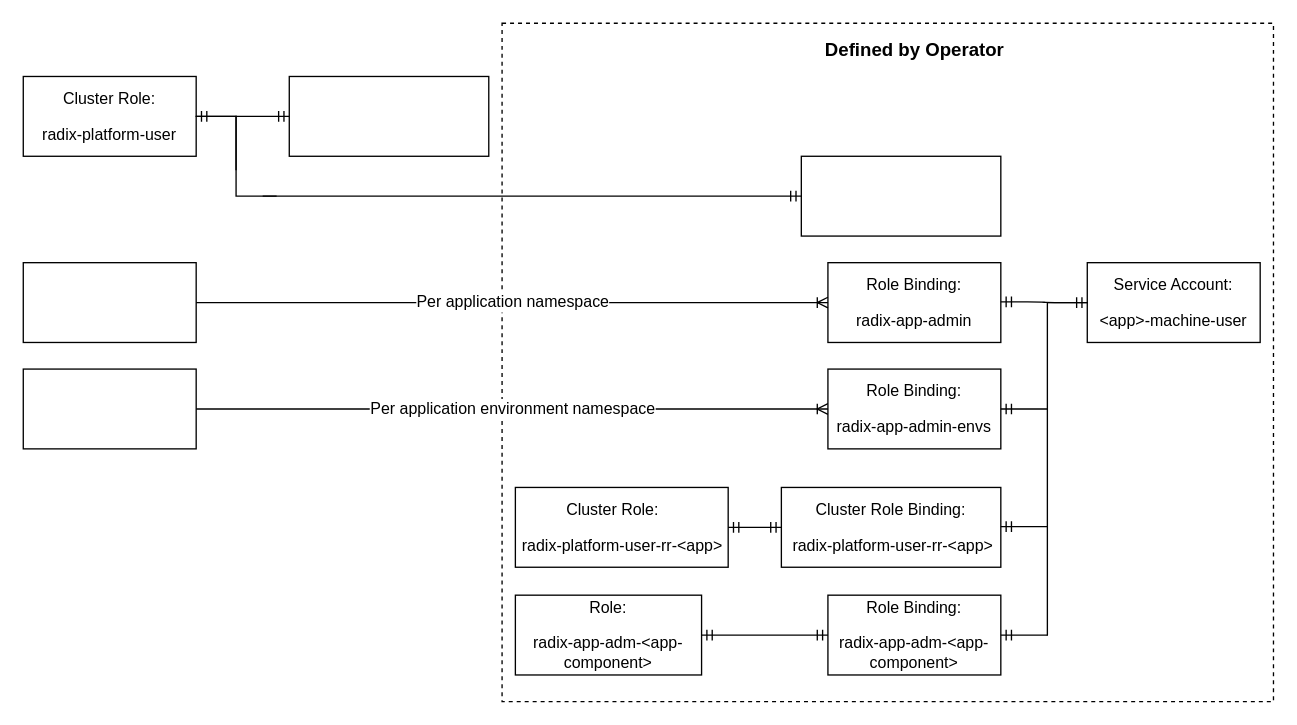
Image size: 1297x725. Some labels were removed from this diagram. Here are the shapes that lost their labels. From the top down, the centre of each, then its label:
At [388,115]: "Cluster Role Binding: radix-platform-user-binding".
At [900,195]: "Cluster Role Binding: <app>-machine-user".
At [109,301]: "Cluster Role: radix-app-admin".
At [109,408]: "Cluster Role: radix-app-admin-envs".
